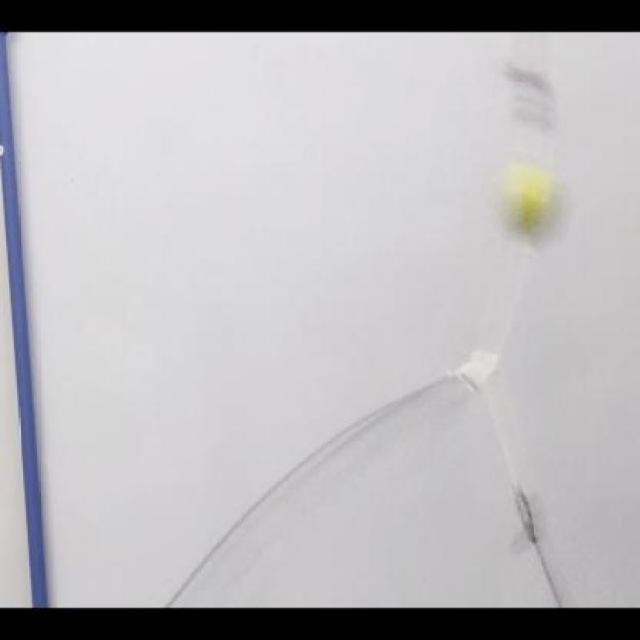baseball: (498, 154, 572, 257)
